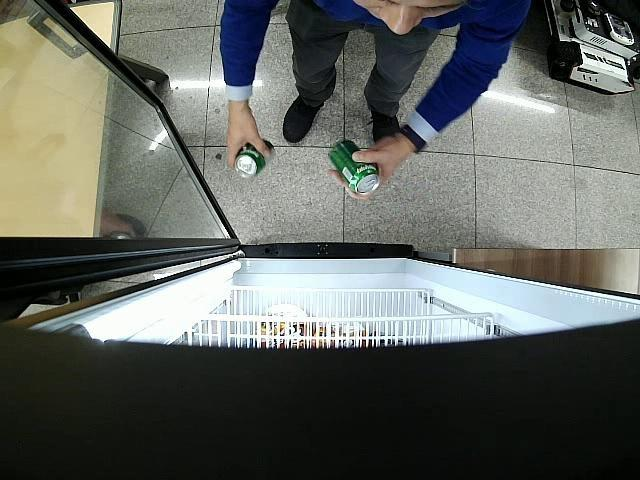12_chilsungCider: (328, 139, 381, 194), (234, 139, 276, 178)
